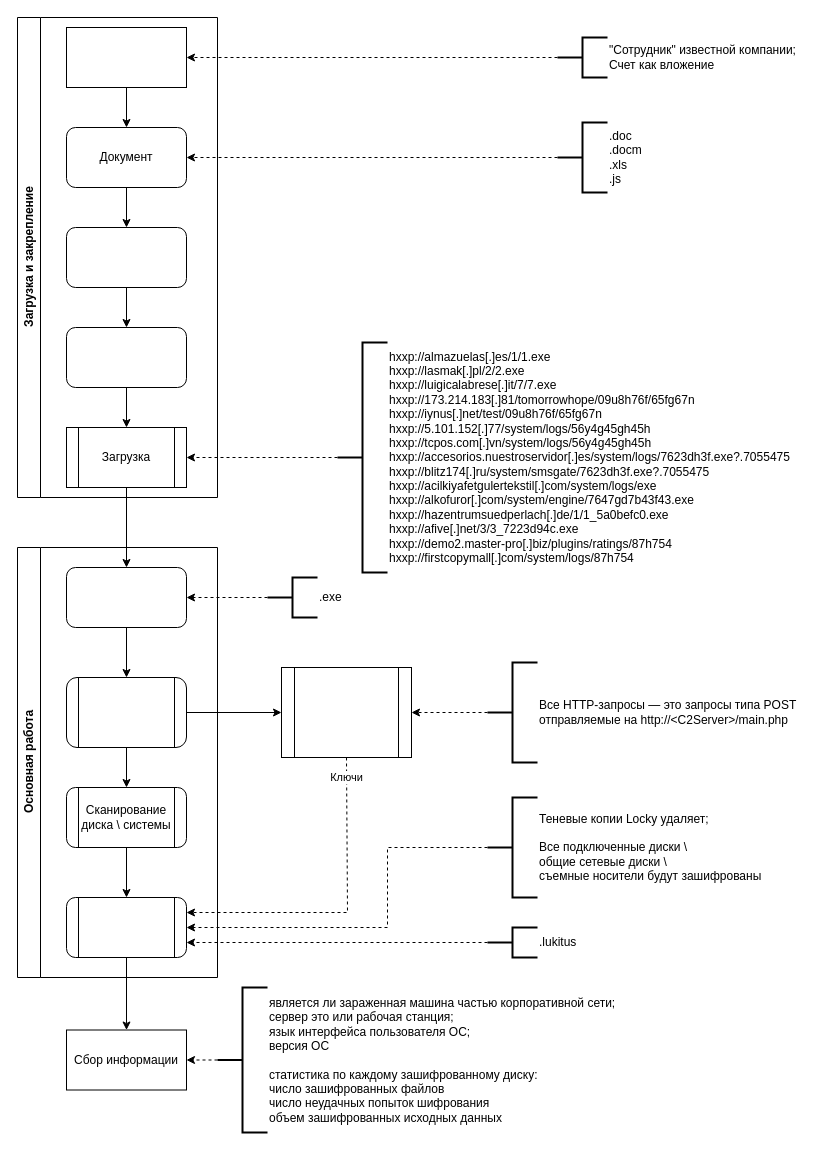
The diagram is 814 pixels wide and 1151 high, and some of its shapes have lost their labels. Here are the shapes that lost their labels. From the top down, the centre of each, then its label:
the point at 126,57: Письмо
the point at 126,257: Макрос
the point at 126,357: Скрипт
the point at 126,597: Исполняемый файл
the point at 126,712: Запуск через WScript.Shell object
the point at 346,712: Подключается к своим C2-серверам для обмена ключами шифрования
the point at 126,927: Шифрование
